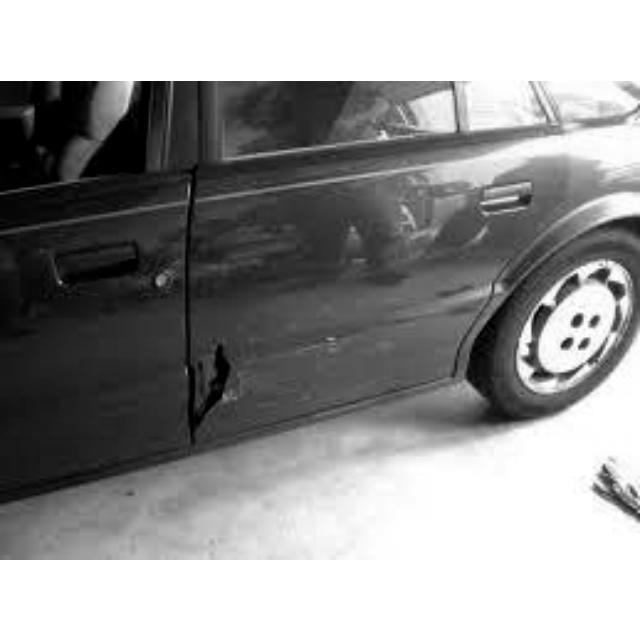doorouter-dent: (186, 196, 381, 440)
